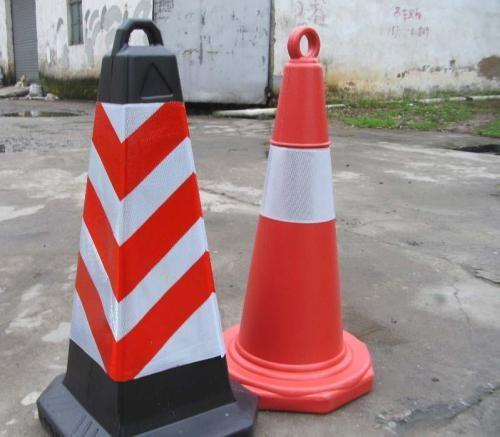cone_barrel: (38, 18, 241, 436), (225, 23, 362, 399)
